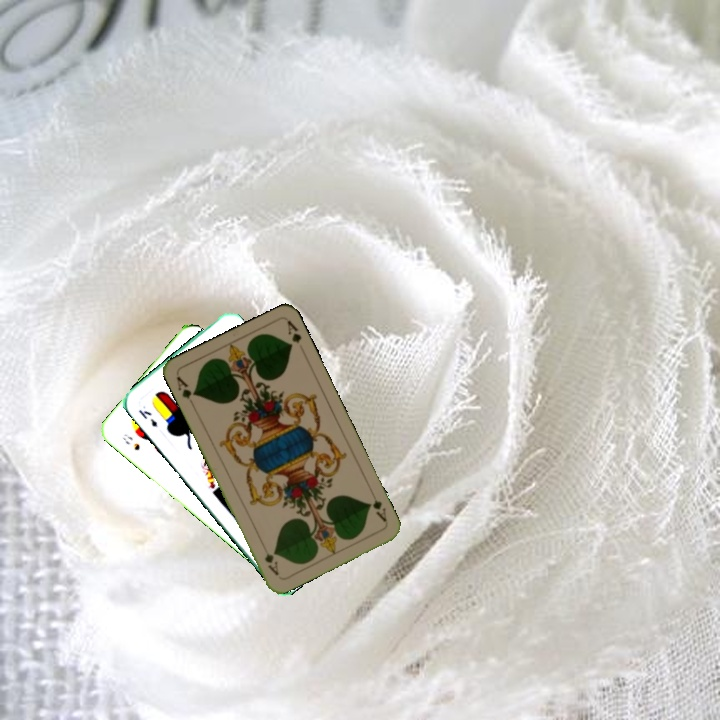EK: (134, 406, 160, 430)
GA: (173, 372, 199, 410), (365, 496, 390, 526)
S8: (119, 429, 142, 453)
